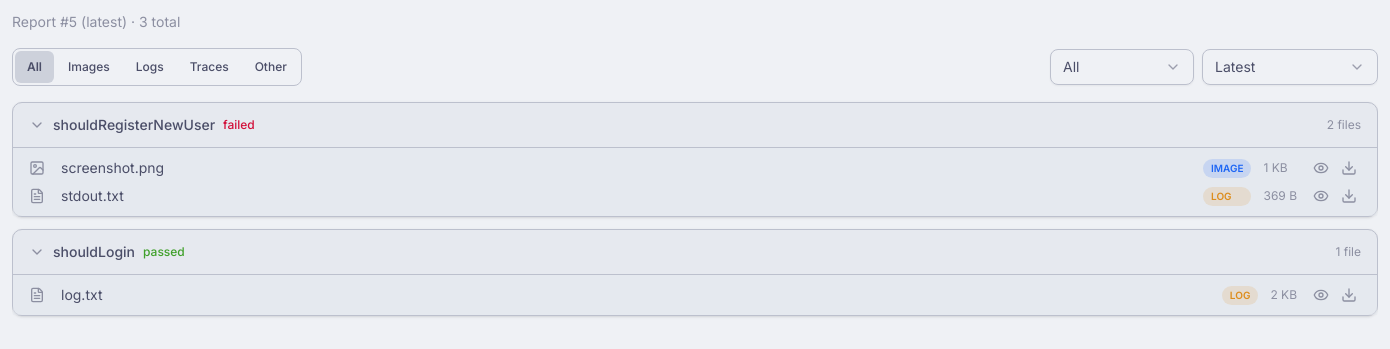
AttachmentsTab › forwards the status filter, labels the subtitle, and uses status-aware empty copy
Check: the text "shouldRegisterNewUser" is shown, box [53,115,215,135]
Note: The status filter is the first combobox (left of the report selector).
Step 1. Click the dropdown labelled "All" → (1122, 67), box [1050,49,1194,85]
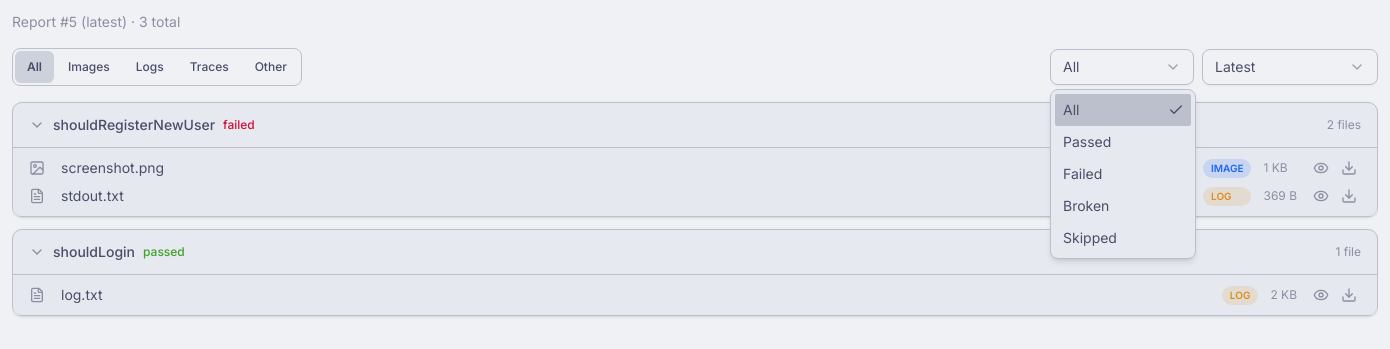
Step 2. Click the option "Failed" → (1083, 174), box [1063,165,1102,182]
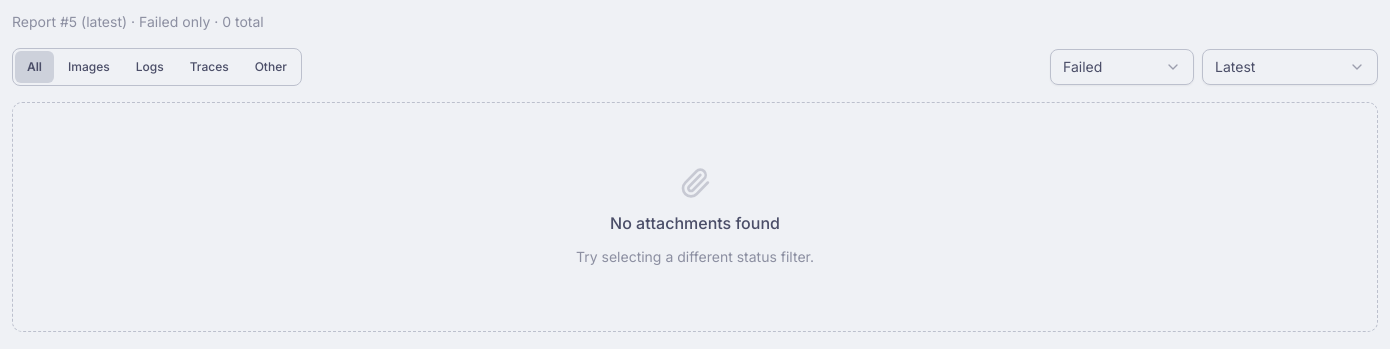
Check: the text "Report #5 (latest) · Failed only · 0 total" is shown, box [12,13,264,30]
Check: the text "Try selecting a different status filter." is shown, box [576,247,814,267]
